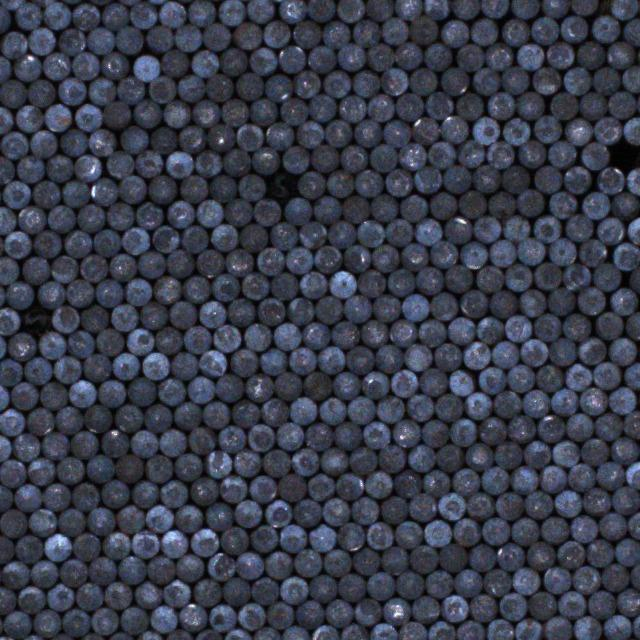tool: (525, 540, 553, 569), (374, 343, 402, 372), (6, 332, 34, 361), (608, 42, 637, 70), (526, 592, 554, 620), (86, 454, 114, 482), (524, 490, 552, 518), (549, 338, 577, 366), (394, 570, 422, 598), (54, 407, 82, 435), (535, 263, 563, 291), (295, 600, 323, 628), (409, 546, 437, 574), (370, 194, 398, 222), (14, 534, 42, 562), (116, 506, 144, 534), (238, 222, 266, 250), (445, 265, 473, 293), (507, 414, 535, 442), (426, 570, 454, 598), (86, 507, 114, 535), (144, 404, 172, 432), (420, 368, 448, 396), (52, 356, 80, 384), (446, 316, 474, 344), (480, 465, 508, 493), (612, 485, 640, 513), (500, 66, 528, 94), (118, 556, 146, 584), (302, 372, 330, 400), (396, 93, 424, 121), (277, 474, 305, 502), (408, 492, 436, 520), (220, 525, 248, 553), (222, 578, 250, 606), (510, 518, 538, 546), (58, 558, 86, 586), (118, 126, 146, 154), (484, 43, 512, 71), (350, 496, 378, 524), (576, 40, 604, 68), (172, 23, 200, 51), (430, 291, 458, 319), (38, 331, 66, 359), (517, 92, 545, 120), (406, 392, 434, 420), (592, 15, 620, 43), (102, 582, 130, 610), (174, 503, 202, 531), (46, 584, 74, 612), (438, 492, 466, 520), (456, 139, 484, 167), (400, 194, 428, 222), (410, 16, 438, 44), (0, 561, 28, 589), (461, 288, 488, 316), (279, 575, 306, 603), (71, 430, 98, 458), (384, 219, 411, 247), (334, 372, 361, 400), (357, 218, 384, 246), (424, 520, 452, 547), (184, 324, 211, 352), (119, 175, 146, 203), (522, 440, 549, 468), (117, 77, 145, 104), (61, 180, 88, 208), (236, 72, 263, 100), (438, 543, 466, 570), (236, 124, 263, 152), (304, 422, 331, 450), (550, 238, 577, 266), (257, 247, 284, 275), (211, 273, 238, 301), (88, 128, 115, 156), (43, 482, 70, 510), (250, 46, 277, 74), (596, 461, 623, 489), (557, 591, 584, 619), (540, 517, 568, 544), (384, 168, 411, 196), (77, 204, 104, 232), (29, 560, 56, 588), (196, 248, 223, 276), (277, 44, 304, 72), (198, 349, 225, 377), (592, 362, 619, 390), (80, 253, 107, 281), (393, 419, 420, 447), (243, 322, 270, 350), (465, 391, 492, 419), (413, 166, 440, 194), (216, 374, 243, 402), (496, 492, 524, 519), (466, 442, 493, 470), (505, 264, 532, 292), (136, 250, 164, 277), (100, 51, 127, 79), (372, 293, 399, 321), (203, 502, 230, 530), (94, 279, 121, 307), (321, 448, 348, 476), (170, 350, 197, 378), (212, 324, 240, 351), (338, 42, 365, 70), (340, 195, 368, 222), (482, 569, 510, 596), (488, 92, 515, 120), (120, 606, 147, 634), (220, 48, 247, 76), (434, 343, 462, 370), (497, 541, 524, 569), (583, 190, 610, 218), (414, 217, 442, 244), (202, 22, 229, 50), (366, 571, 394, 598), (588, 591, 615, 619), (191, 528, 218, 556), (18, 585, 45, 613), (111, 304, 138, 332), (73, 53, 100, 81), (347, 395, 374, 423), (398, 142, 425, 170), (234, 552, 262, 579), (370, 143, 397, 171), (101, 532, 128, 560), (578, 287, 605, 315), (336, 472, 363, 500), (612, 438, 640, 465), (381, 597, 408, 625), (566, 213, 593, 241), (402, 292, 429, 320), (246, 374, 273, 402), (472, 165, 500, 192), (108, 252, 135, 280), (174, 453, 201, 481), (40, 431, 67, 459), (132, 100, 160, 127), (205, 123, 232, 151), (431, 239, 458, 267), (178, 602, 205, 630), (302, 321, 330, 348), (444, 165, 471, 193), (62, 231, 90, 258), (150, 175, 177, 203), (146, 506, 174, 533), (566, 413, 593, 441), (90, 176, 117, 204), (358, 270, 385, 298), (585, 540, 612, 568), (28, 510, 56, 537), (578, 338, 606, 365), (571, 566, 598, 594), (127, 377, 154, 405), (237, 172, 264, 200), (228, 298, 255, 326), (186, 426, 214, 453), (29, 130, 56, 158), (163, 580, 190, 608), (71, 532, 98, 560), (134, 201, 162, 228), (372, 243, 399, 271), (260, 397, 287, 425), (206, 553, 233, 581), (563, 363, 590, 391), (293, 550, 320, 578), (150, 604, 177, 632), (313, 246, 340, 274), (600, 562, 627, 590), (168, 301, 195, 329), (426, 91, 454, 118), (222, 148, 250, 175), (343, 244, 370, 272), (58, 509, 85, 537), (510, 464, 537, 492), (174, 554, 201, 582), (389, 369, 416, 397), (193, 578, 220, 606), (88, 556, 115, 584), (458, 189, 485, 217), (325, 599, 352, 627), (278, 524, 305, 552), (103, 101, 130, 129), (207, 603, 234, 631), (88, 78, 115, 106), (148, 556, 175, 584), (536, 364, 563, 392), (189, 478, 216, 506), (32, 230, 59, 258), (322, 550, 350, 577), (52, 304, 79, 332), (81, 304, 108, 332), (392, 469, 420, 496), (70, 482, 97, 510), (66, 330, 93, 358), (2, 611, 29, 639), (28, 27, 55, 54), (343, 294, 370, 321), (519, 338, 546, 365), (568, 463, 595, 490), (323, 497, 350, 524), (69, 380, 96, 407), (289, 346, 316, 373), (518, 238, 545, 265), (536, 166, 563, 193), (404, 344, 431, 371), (543, 566, 570, 593), (234, 499, 261, 526), (498, 593, 525, 620), (440, 116, 467, 143), (160, 529, 187, 556), (65, 279, 92, 306), (333, 422, 360, 449), (318, 346, 345, 373), (487, 141, 514, 168), (409, 69, 436, 96), (264, 500, 291, 527), (308, 574, 335, 601), (100, 481, 127, 508), (362, 372, 389, 399), (329, 271, 356, 298), (231, 399, 258, 426), (478, 417, 505, 444), (518, 188, 545, 215), (251, 146, 278, 173), (426, 141, 453, 168), (338, 94, 365, 121), (417, 320, 444, 347), (269, 221, 296, 248), (205, 73, 232, 100), (501, 166, 528, 193), (265, 75, 292, 102), (23, 356, 50, 383), (444, 215, 471, 242), (14, 484, 41, 511), (493, 441, 520, 468), (453, 568, 480, 595), (549, 140, 576, 167), (265, 552, 292, 579), (40, 382, 67, 409), (582, 488, 609, 515), (135, 149, 162, 176), (328, 220, 355, 247), (424, 468, 451, 495), (407, 445, 434, 472), (365, 471, 392, 498), (153, 226, 180, 253), (226, 248, 253, 275), (130, 429, 157, 456), (471, 116, 498, 143), (283, 198, 310, 225), (394, 41, 421, 68), (12, 55, 39, 82), (564, 265, 591, 292), (494, 390, 521, 417), (163, 100, 190, 127), (155, 327, 182, 354), (452, 467, 479, 494), (489, 289, 516, 316), (75, 155, 102, 182), (487, 190, 514, 217), (593, 413, 620, 440), (262, 449, 289, 476), (609, 91, 636, 118), (279, 97, 306, 124), (459, 240, 486, 267), (132, 54, 159, 81), (105, 202, 132, 229), (274, 373, 301, 400), (361, 421, 388, 448), (312, 197, 339, 224), (158, 377, 185, 404), (455, 92, 482, 119), (133, 582, 160, 609), (106, 150, 133, 177), (533, 216, 560, 243), (191, 50, 218, 77), (529, 15, 556, 42), (1, 180, 28, 207), (61, 608, 88, 635), (101, 2, 128, 29), (252, 577, 279, 604), (100, 429, 127, 456), (299, 220, 326, 247), (5, 281, 32, 308), (249, 525, 276, 552), (146, 454, 172, 482), (415, 266, 441, 294), (294, 70, 320, 98), (13, 434, 39, 462), (381, 67, 407, 95), (258, 298, 284, 326), (116, 26, 142, 54), (160, 480, 186, 508), (84, 404, 110, 432), (554, 488, 580, 516), (346, 345, 372, 373), (353, 120, 379, 148), (337, 522, 363, 550), (174, 402, 200, 430), (181, 174, 207, 202), (273, 323, 299, 351), (166, 248, 192, 276), (275, 421, 301, 449), (441, 594, 467, 622), (381, 547, 407, 575), (5, 230, 31, 258), (367, 94, 393, 122), (116, 454, 142, 482), (332, 320, 358, 348), (197, 200, 223, 228), (232, 22, 260, 48), (522, 388, 548, 416), (491, 341, 517, 369), (326, 119, 352, 147), (18, 205, 44, 233), (205, 450, 231, 478), (308, 44, 334, 72), (382, 118, 408, 146), (292, 22, 320, 48), (470, 593, 496, 621), (376, 394, 402, 422), (452, 517, 478, 545), (294, 499, 320, 527), (559, 14, 585, 42), (595, 264, 621, 292), (320, 396, 346, 424), (354, 168, 380, 196), (300, 270, 326, 298), (59, 76, 85, 104), (401, 242, 427, 270), (519, 288, 545, 316), (298, 170, 324, 198), (113, 351, 139, 379), (254, 197, 280, 225), (292, 447, 318, 475), (469, 544, 495, 572), (32, 608, 58, 636), (98, 378, 124, 406), (565, 166, 591, 194), (556, 539, 582, 567), (27, 457, 53, 485), (341, 144, 367, 172), (551, 92, 577, 120), (154, 276, 180, 304), (598, 512, 624, 540), (45, 532, 71, 560), (592, 66, 618, 94), (390, 320, 416, 348), (31, 179, 57, 207), (285, 297, 311, 325), (338, 574, 364, 602), (230, 347, 256, 375), (46, 0, 72, 28), (114, 405, 140, 433), (51, 256, 77, 284), (612, 286, 638, 314), (600, 216, 626, 244), (36, 279, 62, 307), (378, 445, 404, 473), (16, 1, 42, 29), (581, 387, 607, 414), (562, 68, 588, 95), (508, 364, 534, 391), (296, 120, 323, 146), (551, 441, 578, 467), (308, 524, 334, 551), (422, 421, 448, 448), (263, 20, 289, 47), (456, 44, 482, 71), (477, 316, 503, 343), (464, 342, 490, 369), (131, 532, 158, 558), (571, 515, 597, 542), (449, 418, 475, 445), (149, 76, 175, 103), (122, 228, 148, 255), (48, 205, 74, 232), (473, 69, 499, 96), (222, 98, 248, 125), (250, 476, 277, 502), (314, 296, 340, 323), (505, 314, 531, 341), (488, 240, 514, 267), (352, 20, 378, 47), (16, 156, 43, 182), (192, 99, 218, 126), (482, 517, 508, 544), (412, 116, 438, 143), (535, 313, 561, 340), (290, 398, 317, 424), (597, 312, 623, 339), (327, 170, 353, 197), (225, 198, 251, 225), (308, 95, 334, 122), (520, 140, 546, 167), (382, 18, 408, 45), (56, 456, 82, 483), (188, 0, 215, 26), (442, 19, 468, 46), (183, 276, 210, 302), (208, 175, 234, 202), (366, 44, 393, 70), (160, 0, 186, 27), (248, 424, 274, 451), (512, 566, 538, 593), (266, 123, 292, 150), (252, 98, 278, 125), (582, 439, 608, 466), (27, 80, 53, 107), (88, 26, 114, 53), (74, 584, 100, 611), (74, 3, 100, 30), (15, 105, 41, 132), (44, 54, 71, 80), (43, 104, 69, 131), (549, 288, 576, 314), (550, 389, 576, 416), (437, 445, 463, 472), (167, 201, 193, 228), (504, 117, 530, 144), (361, 319, 387, 346), (614, 241, 640, 268), (198, 301, 224, 328), (26, 408, 52, 435), (202, 400, 228, 427), (540, 464, 566, 491), (580, 93, 606, 120), (270, 273, 296, 300), (267, 601, 293, 628), (126, 327, 152, 354), (310, 144, 336, 171), (159, 428, 185, 455), (612, 338, 638, 365), (442, 68, 469, 94), (141, 351, 167, 378), (351, 547, 377, 574), (91, 607, 117, 634), (9, 382, 35, 409), (609, 386, 636, 412), (220, 476, 246, 503), (178, 126, 204, 153), (74, 104, 100, 131), (396, 520, 422, 547), (477, 267, 504, 293), (210, 224, 236, 251), (217, 425, 243, 452), (93, 229, 119, 256), (186, 377, 212, 404), (150, 128, 177, 154), (238, 602, 264, 629), (96, 328, 123, 354), (583, 143, 609, 170), (124, 277, 150, 304), (165, 151, 192, 177), (551, 191, 577, 218), (448, 369, 474, 396), (60, 130, 87, 156), (260, 348, 287, 374), (307, 473, 333, 500), (84, 353, 110, 380), (598, 166, 624, 193), (22, 257, 48, 284), (145, 26, 171, 53), (351, 70, 377, 97), (465, 492, 492, 518), (348, 448, 374, 475), (380, 495, 406, 522), (194, 150, 220, 177), (161, 50, 187, 77), (614, 191, 640, 218), (233, 450, 260, 476), (130, 1, 156, 28), (322, 22, 348, 49), (615, 538, 640, 566), (0, 510, 25, 538), (474, 214, 499, 242), (411, 596, 437, 622), (176, 76, 202, 102), (538, 416, 564, 442), (563, 314, 589, 340), (241, 273, 267, 299), (365, 522, 391, 548), (517, 42, 543, 68), (430, 191, 456, 217), (594, 116, 620, 142), (502, 215, 528, 241), (46, 156, 72, 182), (536, 116, 562, 142), (387, 270, 413, 296), (547, 42, 573, 68), (132, 482, 158, 508), (478, 366, 504, 392), (284, 248, 310, 274), (582, 240, 608, 266), (353, 598, 379, 624), (324, 72, 350, 98), (471, 19, 497, 45), (59, 29, 85, 55), (0, 131, 25, 158), (0, 31, 25, 58), (603, 615, 630, 640), (567, 117, 592, 144), (282, 145, 307, 172), (181, 225, 206, 252), (437, 393, 462, 420), (140, 303, 165, 330), (543, 616, 571, 640), (0, 460, 24, 488), (616, 587, 640, 615), (504, 18, 528, 46), (427, 44, 452, 70), (535, 67, 560, 93), (573, 616, 600, 640), (0, 79, 24, 106), (0, 409, 24, 436), (219, 0, 245, 24), (0, 358, 22, 385), (515, 618, 541, 640), (336, 0, 363, 21), (247, 0, 274, 21), (485, 619, 512, 640), (456, 620, 483, 640), (364, 0, 391, 20), (398, 621, 426, 640), (279, 0, 304, 21), (307, 0, 333, 20), (0, 307, 19, 334), (427, 621, 454, 640), (450, 0, 478, 18), (510, 0, 539, 17), (612, 0, 639, 18), (393, 0, 420, 18), (622, 65, 640, 92), (481, 0, 509, 17), (0, 256, 17, 283), (623, 410, 640, 437), (425, 0, 450, 18), (541, 0, 569, 16), (371, 623, 397, 640), (341, 623, 367, 640), (625, 117, 640, 145), (625, 17, 640, 45), (570, 0, 597, 15), (625, 461, 640, 488), (280, 625, 307, 640), (0, 206, 14, 234), (625, 362, 640, 388), (312, 625, 338, 640), (0, 586, 14, 613), (627, 312, 640, 340), (627, 512, 640, 540), (0, 534, 13, 562), (627, 168, 640, 195), (252, 627, 278, 640), (628, 217, 640, 244), (225, 628, 252, 640), (0, 107, 12, 134), (0, 156, 12, 183), (0, 483, 12, 510), (195, 629, 223, 640), (165, 629, 192, 640), (630, 561, 640, 590), (0, 434, 11, 460), (0, 4, 10, 32), (0, 55, 10, 83), (630, 264, 640, 292), (136, 630, 162, 640), (106, 632, 134, 640), (0, 0, 24, 9), (632, 614, 640, 640), (0, 383, 7, 410), (80, 633, 106, 640), (19, 634, 46, 640), (27, 0, 54, 6), (50, 634, 76, 640), (0, 334, 5, 362), (0, 280, 5, 308), (118, 0, 144, 5)
tool_b: (265, 171, 295, 202), (22, 308, 52, 334)
